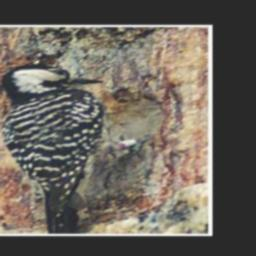Woodpecker: (0, 58, 157, 235)
